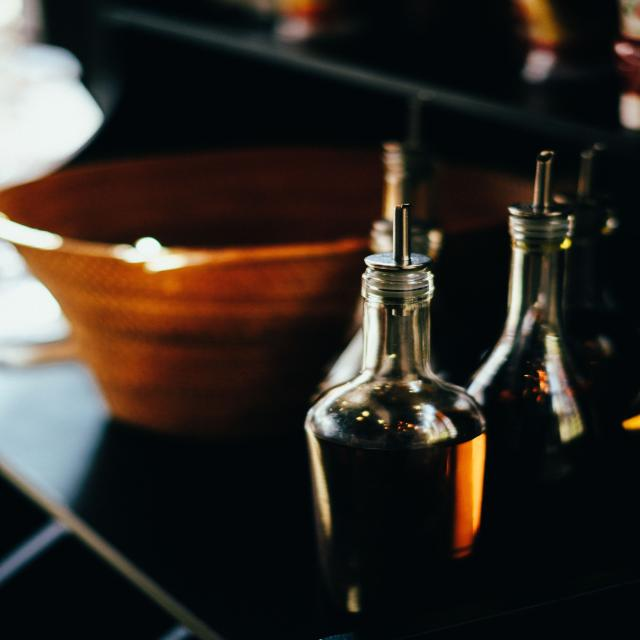Bottle: (306, 206, 484, 614), (468, 152, 595, 564), (556, 145, 639, 435), (370, 109, 442, 262), (614, 0, 639, 130)
